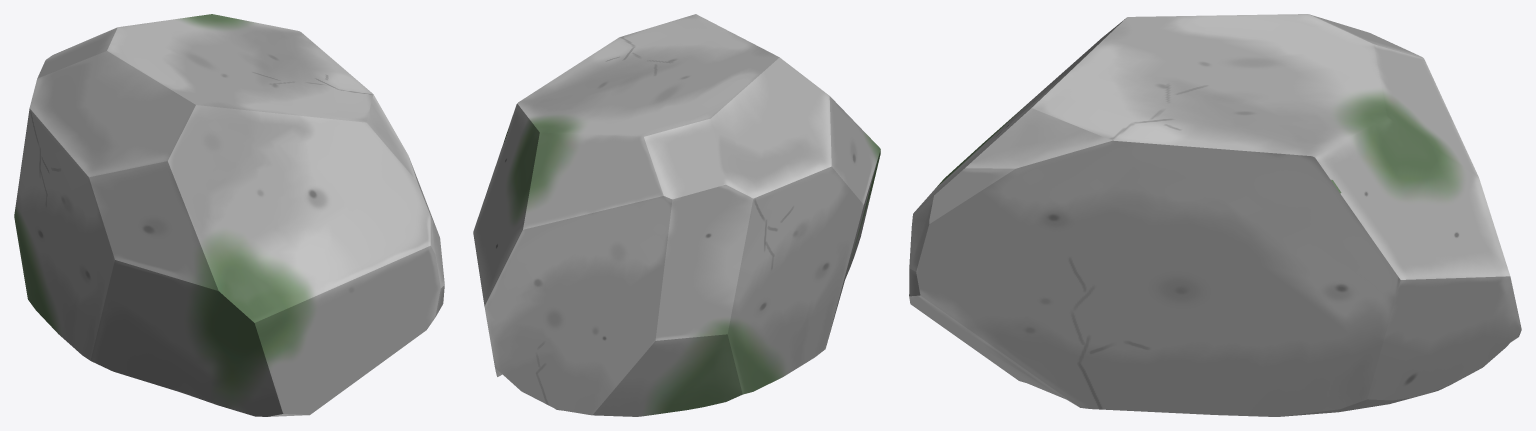
The model's file is Rocher 3.fbx.
3 views of the same model, side by side, from view 1: azimuth 30°, elevation 25°; view 2: azimuth 150°, elevation 25°; view 3: azimuth 270°, elevation 25° (orthographic). The views are drawn at different scales.
Visible parts, largest first — view 1: Cube.001; view 2: Cube.001; view 3: Cube.001.
Part boxes in pixels (box(x1,y1,x2,y2)): Cube.001: box(14, 14, 444, 416); Cube.001: box(473, 14, 880, 416); Cube.001: box(909, 14, 1521, 416).
Bounding box in the file's own units: 98.4 × 89.91 × 166.
Materials: 1 (1 with a texture image).
